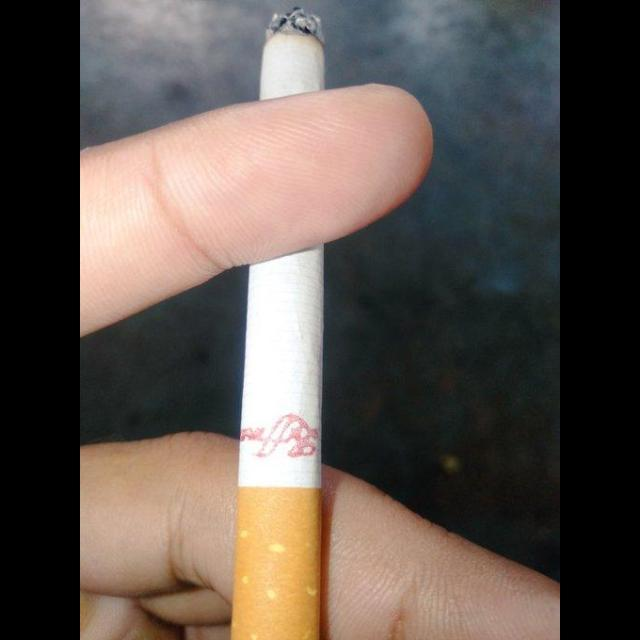rokok: (230, 0, 326, 640)
